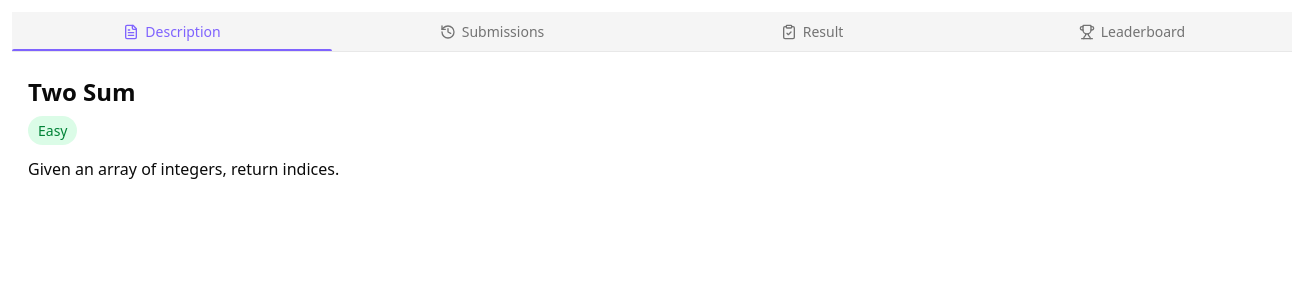
Test case: CodeDescArea — submissions tab › shows submission count in footer
The width and height of the screenshot is (1304, 291).
Expected: the element with test id "tabs-list" is shown, [12, 12, 1292, 52]
Click the tab "Submissions": (492, 32) [332, 12, 652, 51]
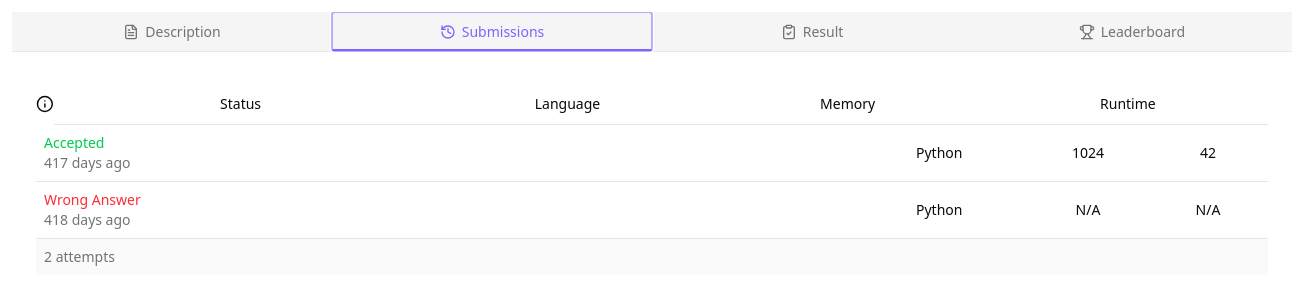
Expected: the text "2 attempts" is shown, [36, 238, 1268, 274]
